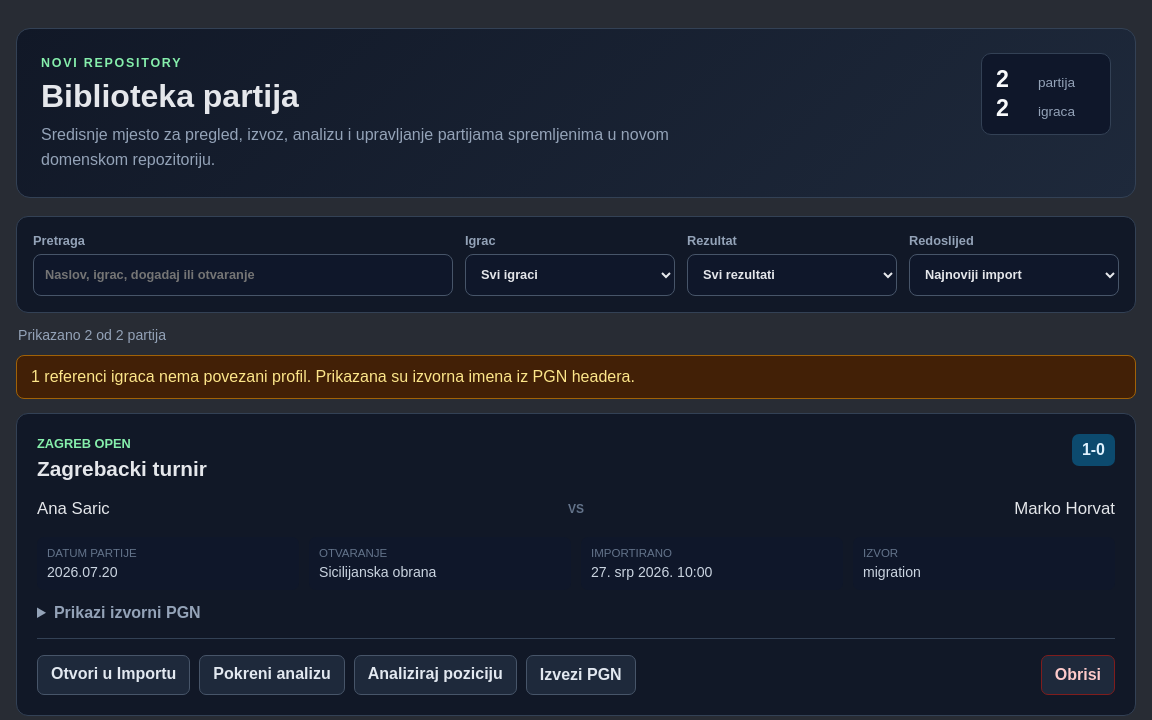
Test: domenska biblioteka partija iz UI-ja › sortiranje i kombinirani filtri igraca i rezultata rade zajedno
Expected: the text "Prikazano 2 od 2 partija" is shown, [18,327,166,343]
Select "Najstariji import" in the dropdown labelled "Redoslijed" at {"x": 1014, "y": 275}, box [909,254,1119,296]
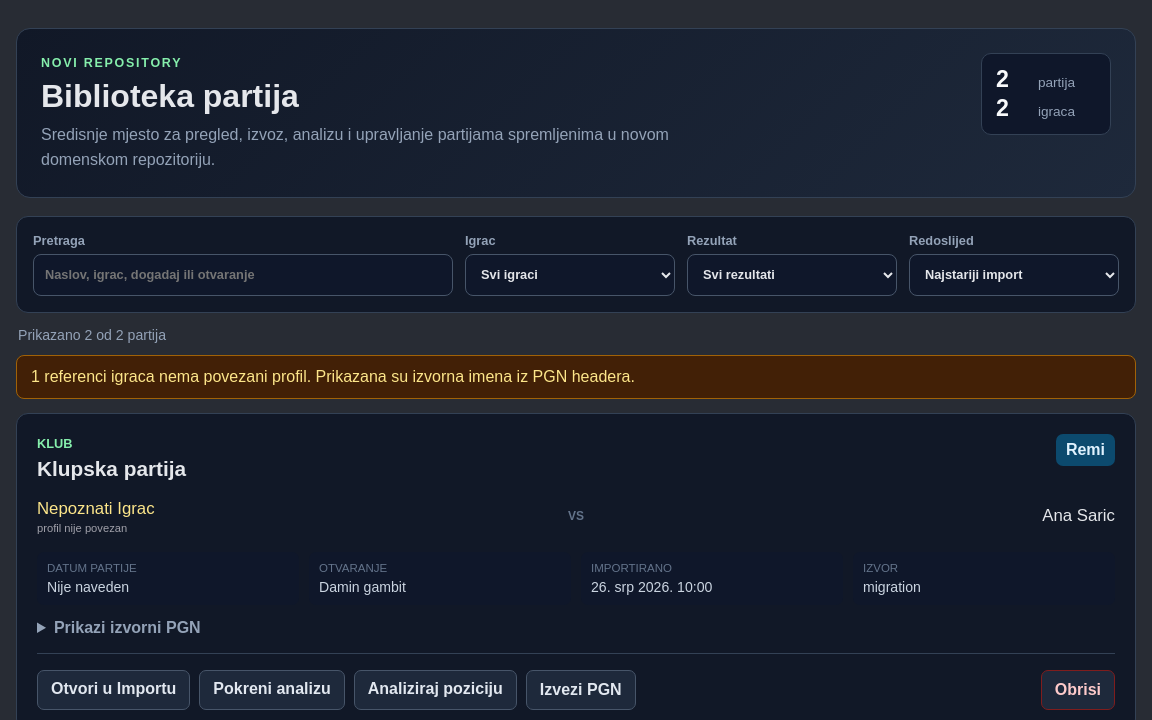
Select "Naslov" in the dropdown labelled "Redoslijed" at {"x": 1014, "y": 275}, box [909,254,1119,296]
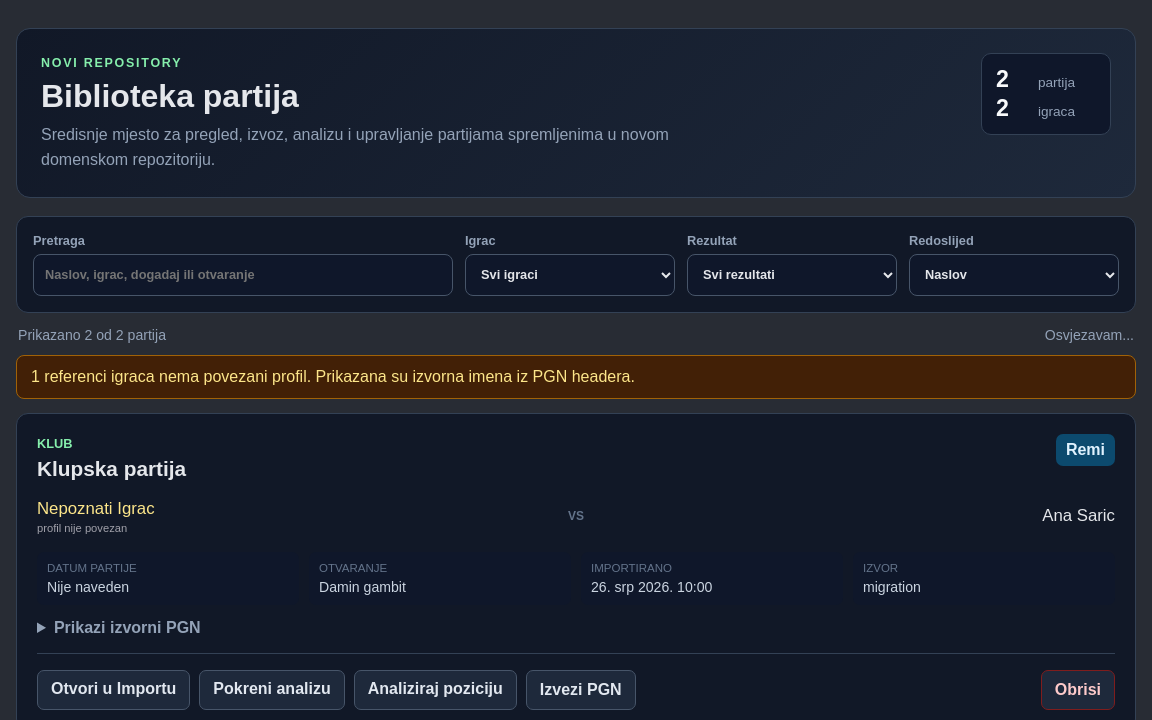
Select "Ana Saric" in the dropdown labelled "Igrac" at {"x": 570, "y": 275}, box [465,254,675,296]
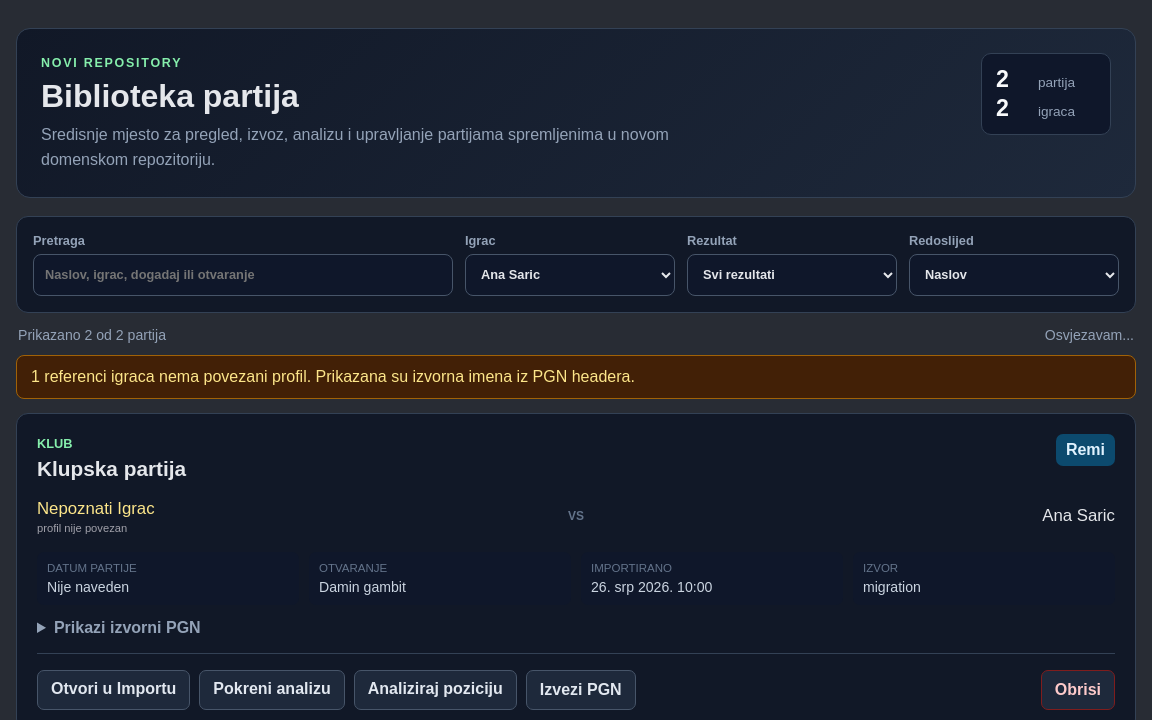
Select "Remi" in the dropdown labelled "Rezultat" at {"x": 792, "y": 275}, box [687,254,897,296]
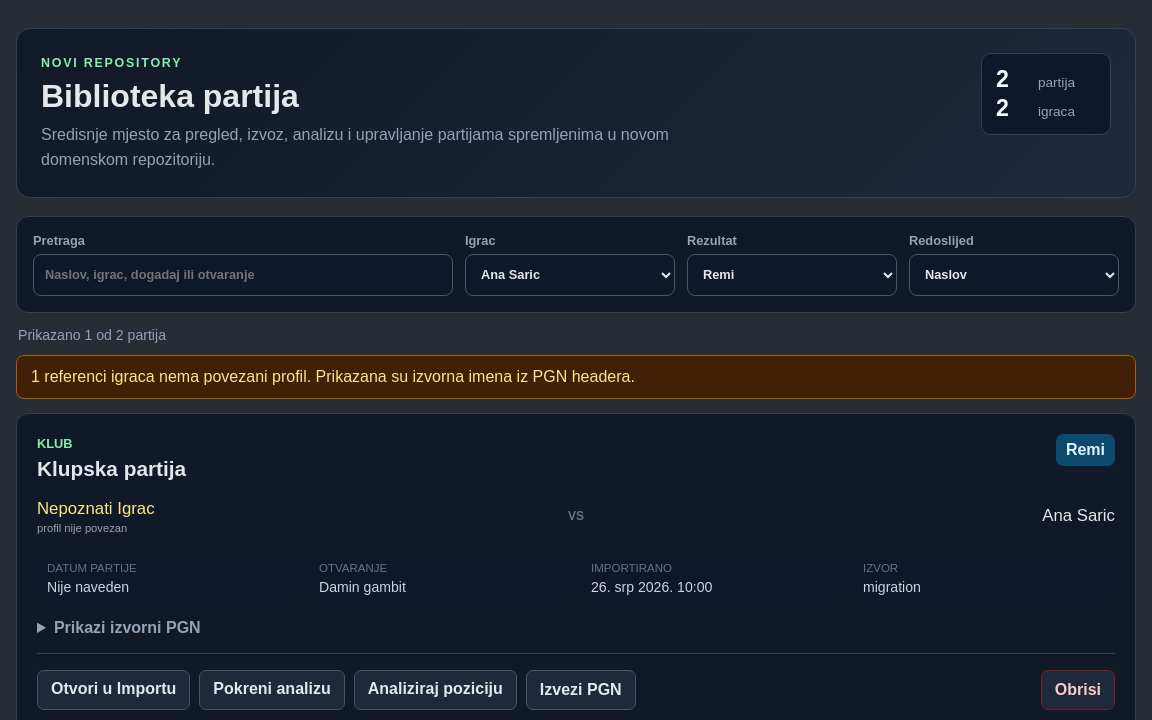
Now the text "Prikazano 1 od 2 partija" is shown, box [18,327,166,343]
